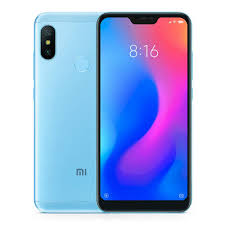mi: (95, 12, 193, 213), (31, 8, 96, 213)
